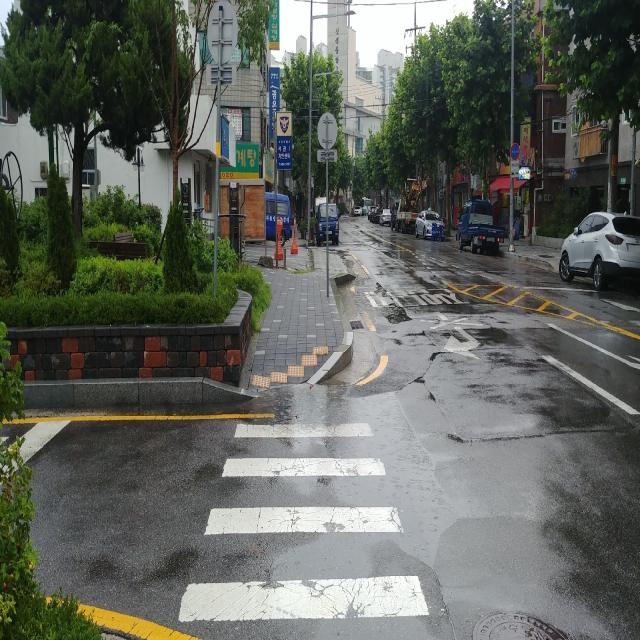횡단보도: (178, 419, 430, 627)
